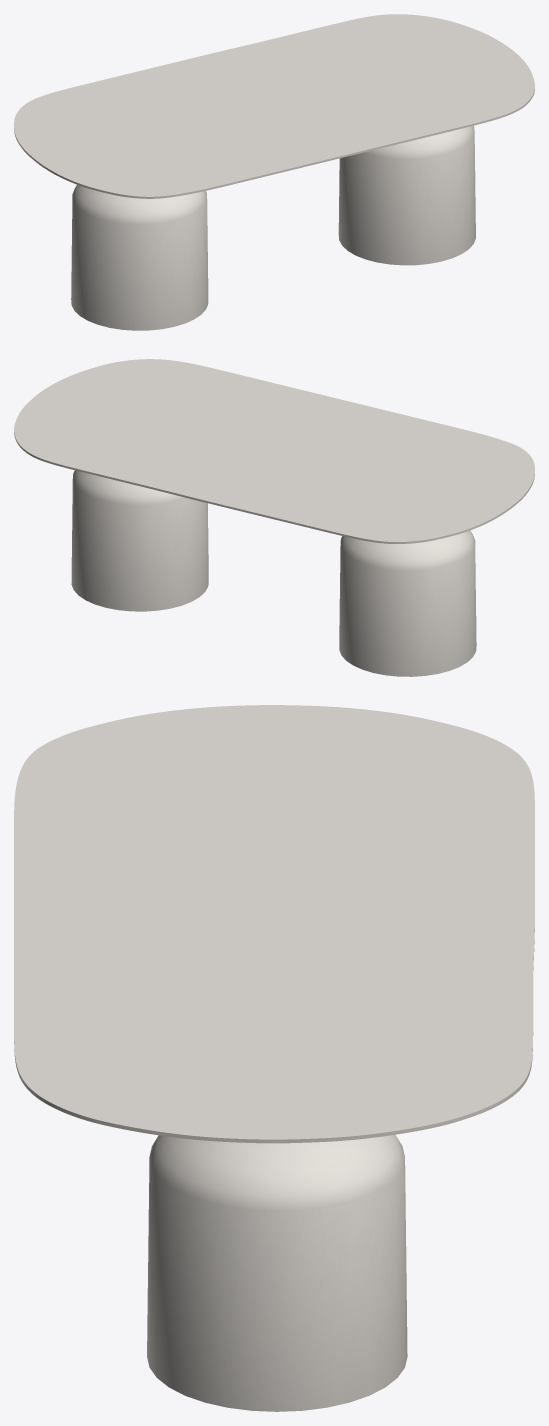
The model's file is pearlwhite_oval_facet_tornado.glb.
The picture shows the model from 3 angles, top to bottom: view 1: azimuth 30°, elevation 25°; view 2: azimuth 150°, elevation 25°; view 3: azimuth 270°, elevation 25°; orthographic projection. The views are drawn at different scales.
Visible parts, largest first — view 1: facet_oval, tornado; view 2: facet_oval, tornado; view 3: facet_oval, tornado.
Part boxes in pixels (<box>): facet_oval: <box>14,14,534,198</box>; tornado: <box>71,126,475,330</box>; facet_oval: <box>14,359,534,543</box>; tornado: <box>71,470,476,676</box>; facet_oval: <box>14,705,534,1143</box>; tornado: <box>147,1134,407,1411</box>.
Size of the model in its own units: 7.5 by 2.5 by 3.8.
Materials: 1 (1 with a texture image).
